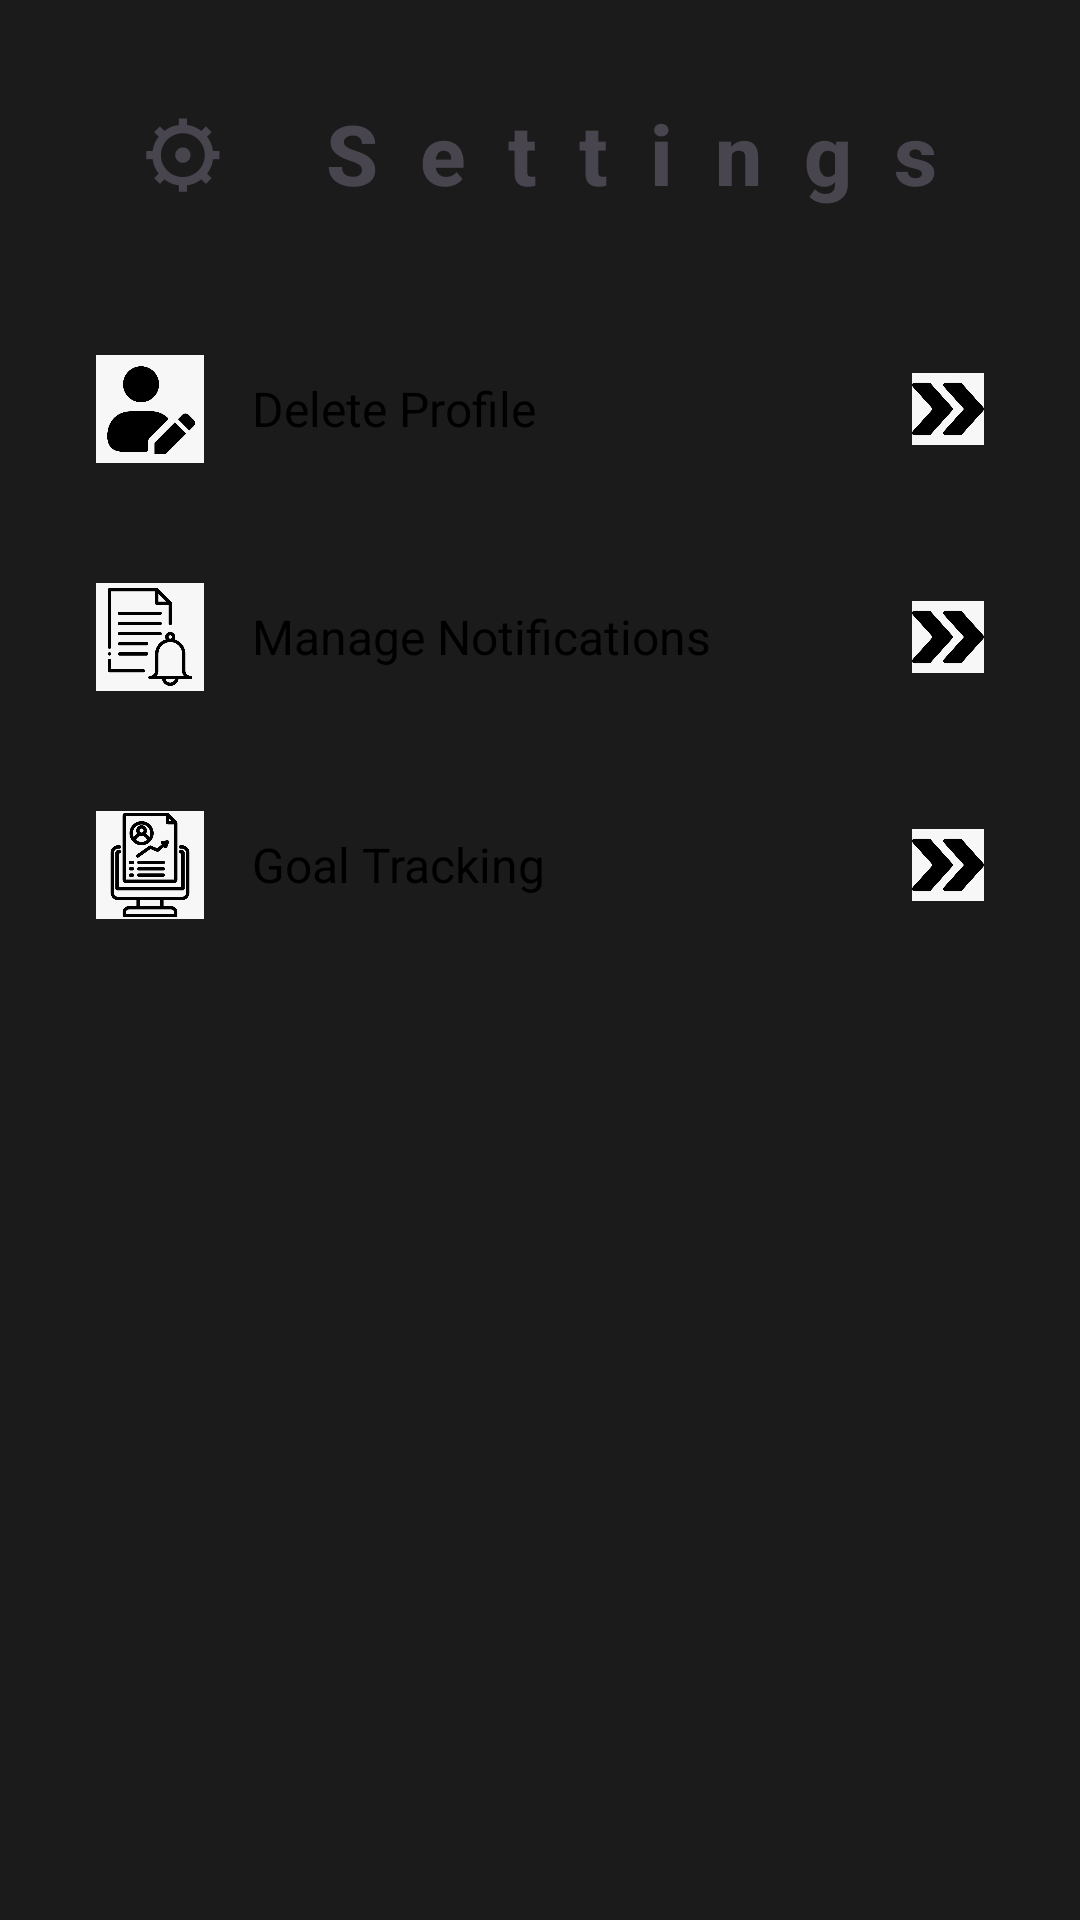

Named icons in this screenshot (1080*1920) and their centers, (x=x, y=y):
Arrow Icon: (x=948, y=409), (x=948, y=637), (x=948, y=865)
